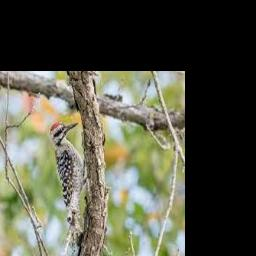Woodpecker: (50, 122, 86, 256)
